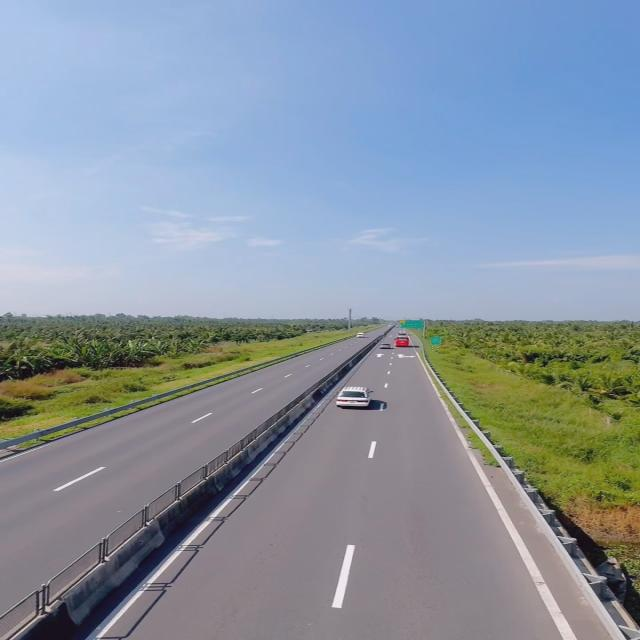car: (335, 384, 374, 408)
